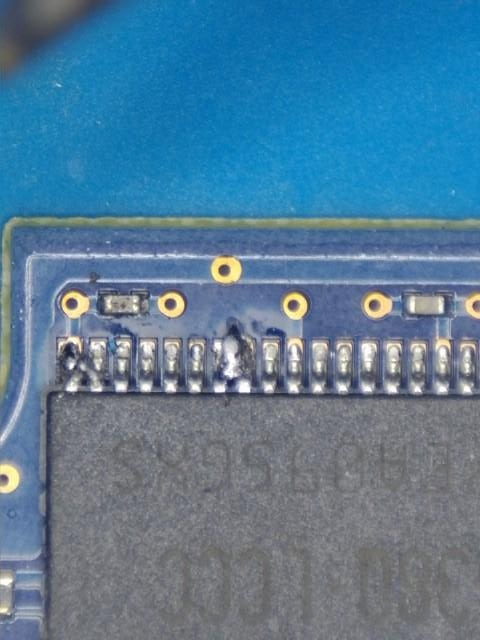pcb_defect: (60, 341, 108, 392), (211, 337, 254, 393)
